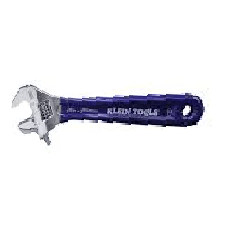Wrench: (7, 72, 225, 158)
